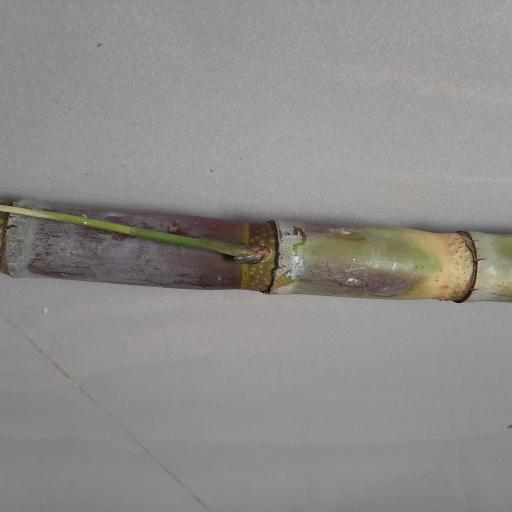Sprouted_Bud: (220, 243, 270, 264)
